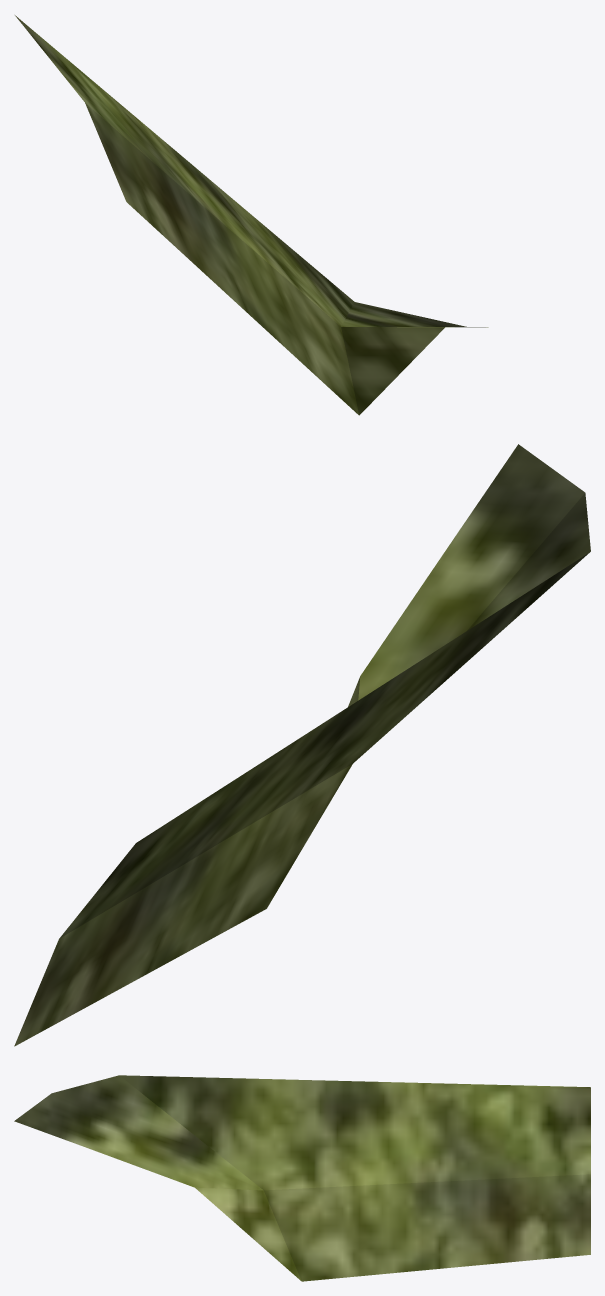
3 views of the same model, one above another, from view 1: azimuth 30°, elevation 25°; view 2: azimuth 150°, elevation 25°; view 3: azimuth 270°, elevation 25° (orthographic). The views are drawn at different scales.
Bounding box in the file's own units: 0.2166 × 0.3529 × 1.15.
Materials: 1 (1 with a texture image).
